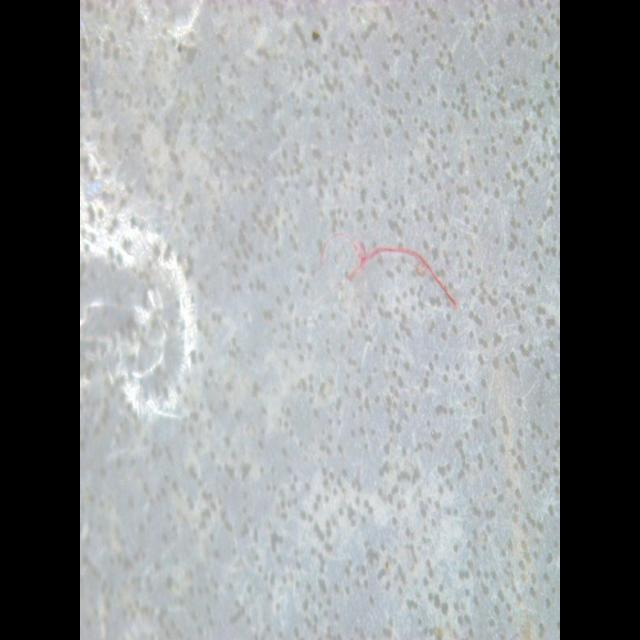Fibre: (317, 230, 459, 320)
